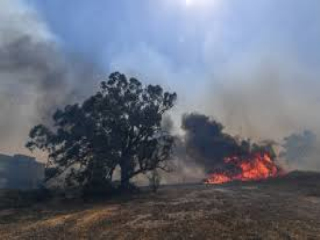fire: (211, 150, 279, 185)
smoke: (166, 107, 247, 153)
